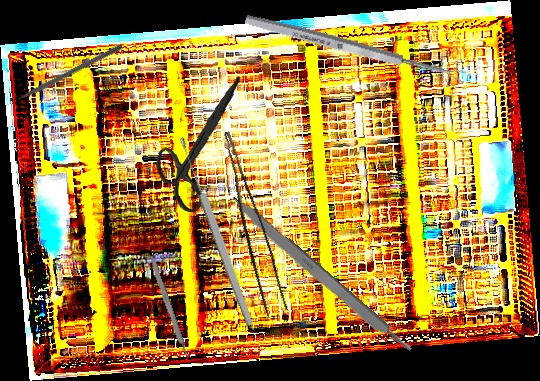Iris Scissors: (150, 76, 251, 215)
Pusher: (2, 42, 124, 109)
Scalpel Handle: (225, 192, 416, 360), (146, 251, 190, 360)
Surgical Spoon: (243, 11, 468, 86), (176, 135, 256, 328)
Tissue Forceps: (203, 131, 294, 317)
